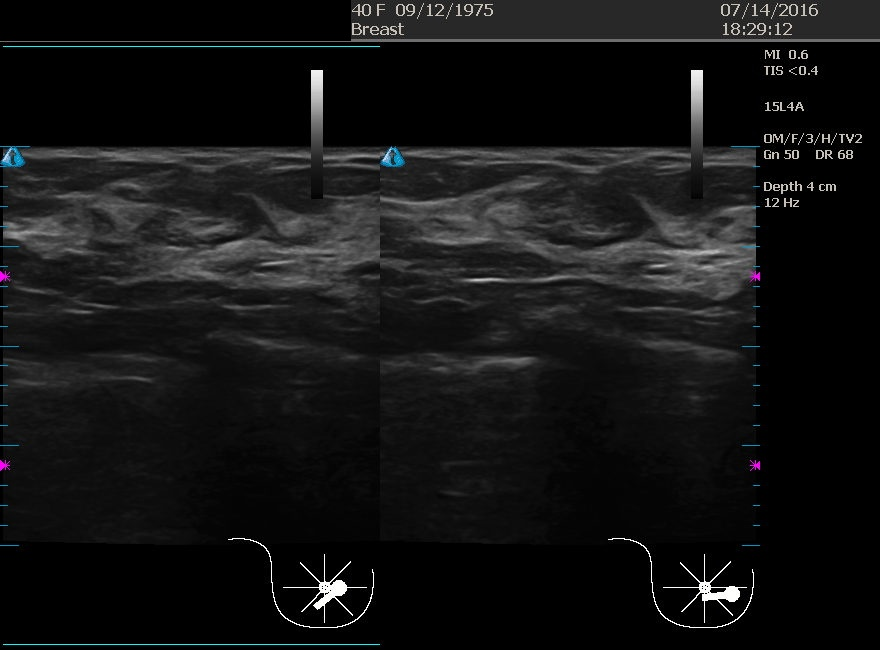BIRADS_3: (105, 156, 305, 357), (486, 153, 686, 354)
